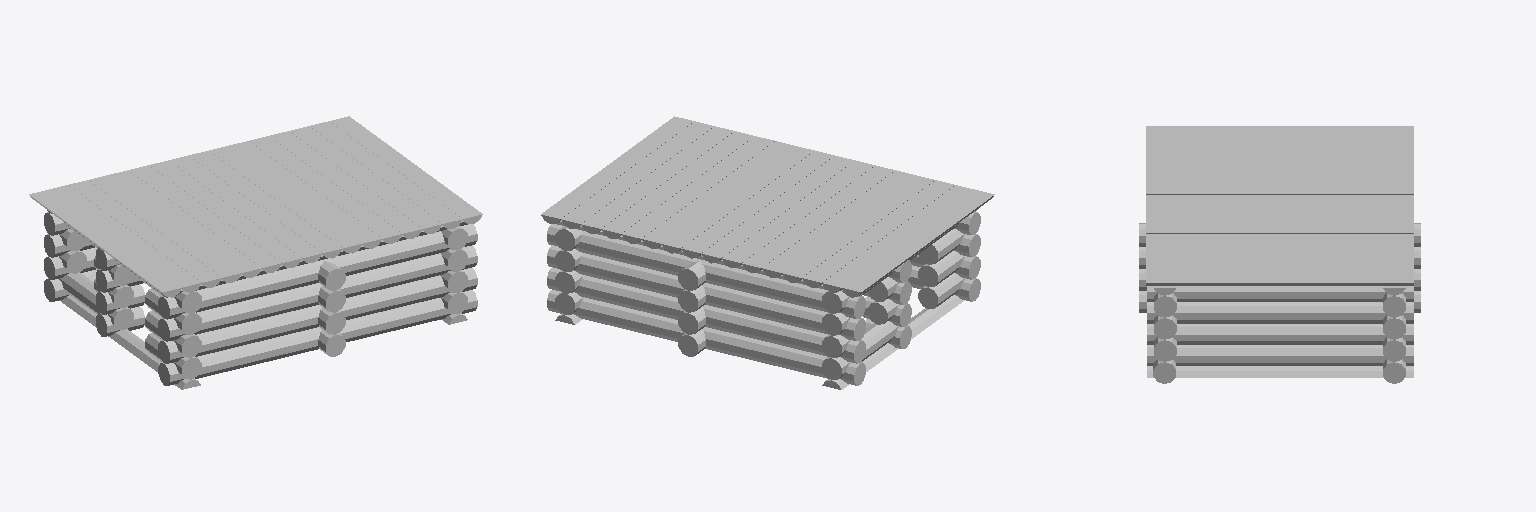
File: Dews Houseblend.obj
The picture shows the model from 3 angles: view 1: azimuth 30°, elevation 25°; view 2: azimuth 150°, elevation 25°; view 3: azimuth 270°, elevation 25°; orthographic projection.
Visible parts, largest first — view 1: Cylinder.021, Cylinder.023, Cylinder.011, Cylinder.022, Cylinder.024, Cylinder.025, Cylinder.034, Cylinder.035, Cylinder.038, Cylinder.028, Cylinder.037, Cylinder.026 (+21 smaller); view 2: Cylinder.018, Cylinder.016, Cylinder.001, Cylinder.017, Cylinder.024, Cylinder.025, Cylinder.037, Cylinder.027, Cylinder.031, Cylinder.035, Cylinder.038, Cylinder.033 (+21 smaller); view 3: Cylinder.042, Cylinder.041, Cylinder.040, Cylinder.043, Cylinder.033, Cylinder.024, Cylinder.025, Cylinder.026, Cylinder.027, Cylinder.028, Cylinder.029, Cylinder.031 (+9 smaller).
Part boxes in pixels (x1,y1,x2,y2): Cylinder.021: (158,224,477,319); Cylinder.023: (158,267,477,363); Cylinder.011: (158,290,477,385); Cylinder.022: (158,245,477,341); Cylinder.024: (29,190,181,297); Cylinder.025: (69,180,221,287); Cylinder.034: (310,121,462,228); Cylinder.035: (290,126,442,233); Cylinder.038: (270,131,421,238); Cylinder.028: (129,165,281,272); Cylinder.037: (249,136,401,243); Cylinder.026: (89,175,241,282); Cylinder.018: (547,224,865,318); Cylinder.016: (547,267,865,363); Cylinder.001: (547,290,865,385); Cylinder.017: (547,245,865,340); Cylinder.024: (842,190,994,297); Cylinder.025: (802,180,954,287); Cylinder.037: (622,136,774,243); Cylinder.027: (721,160,874,267); Cylinder.031: (681,151,834,258); Cylinder.035: (581,126,733,233); Cylinder.038: (601,131,753,238); Cylinder.033: (541,116,693,223); Cylinder.042: (1147,302,1413,323); Cylinder.041: (1147,324,1413,344); Cylinder.040: (1147,345,1413,365); Cylinder.043: (1147,286,1413,301); Cylinder.033: (1146,273,1413,285); Cylinder.024: (1146,126,1413,135); Cylinder.025: (1146,145,1413,154); Cylinder.026: (1146,155,1413,164); Cylinder.027: (1146,185,1413,194); Cylinder.028: (1146,175,1413,184); Cylinder.029: (1146,165,1413,174); Cylinder.031: (1146,204,1413,213).
Bounding box in the file's own units: 11.56 × 3.56 × 8.81.